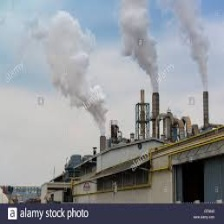smoke: (42, 3, 215, 113)
